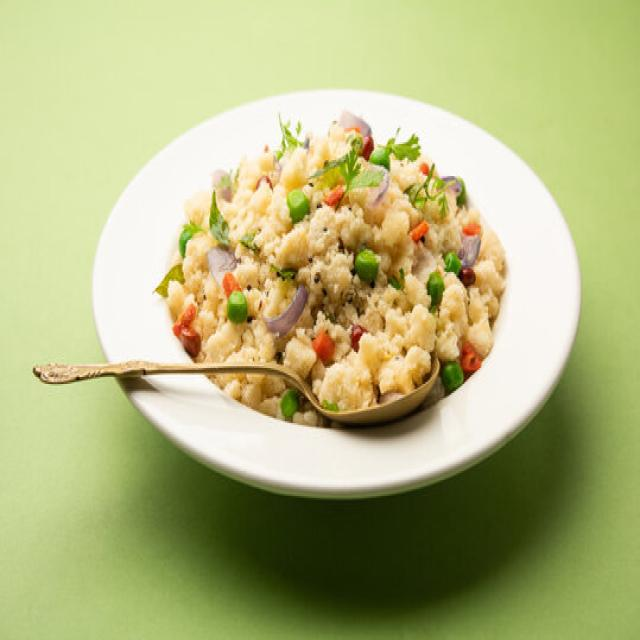UPMA: (165, 122, 506, 430)
